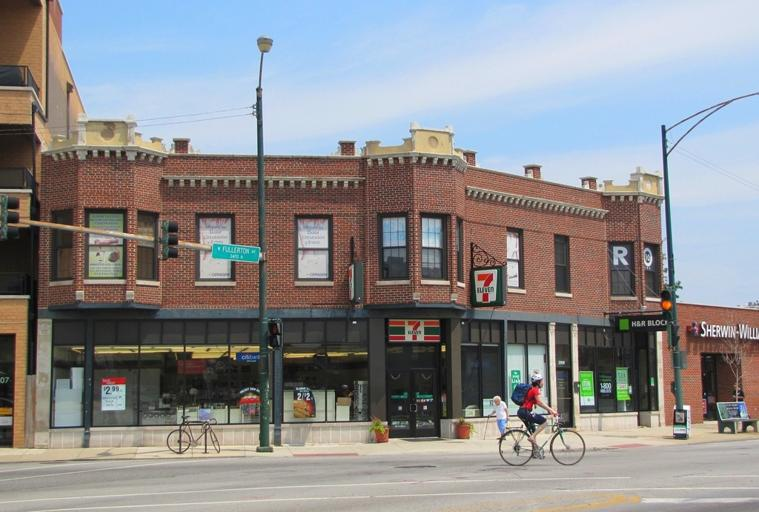non-vehicle: (496, 409, 584, 465), (166, 414, 220, 454)
